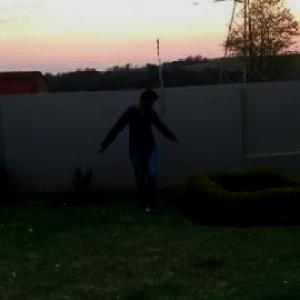land: (91, 85, 192, 226)
